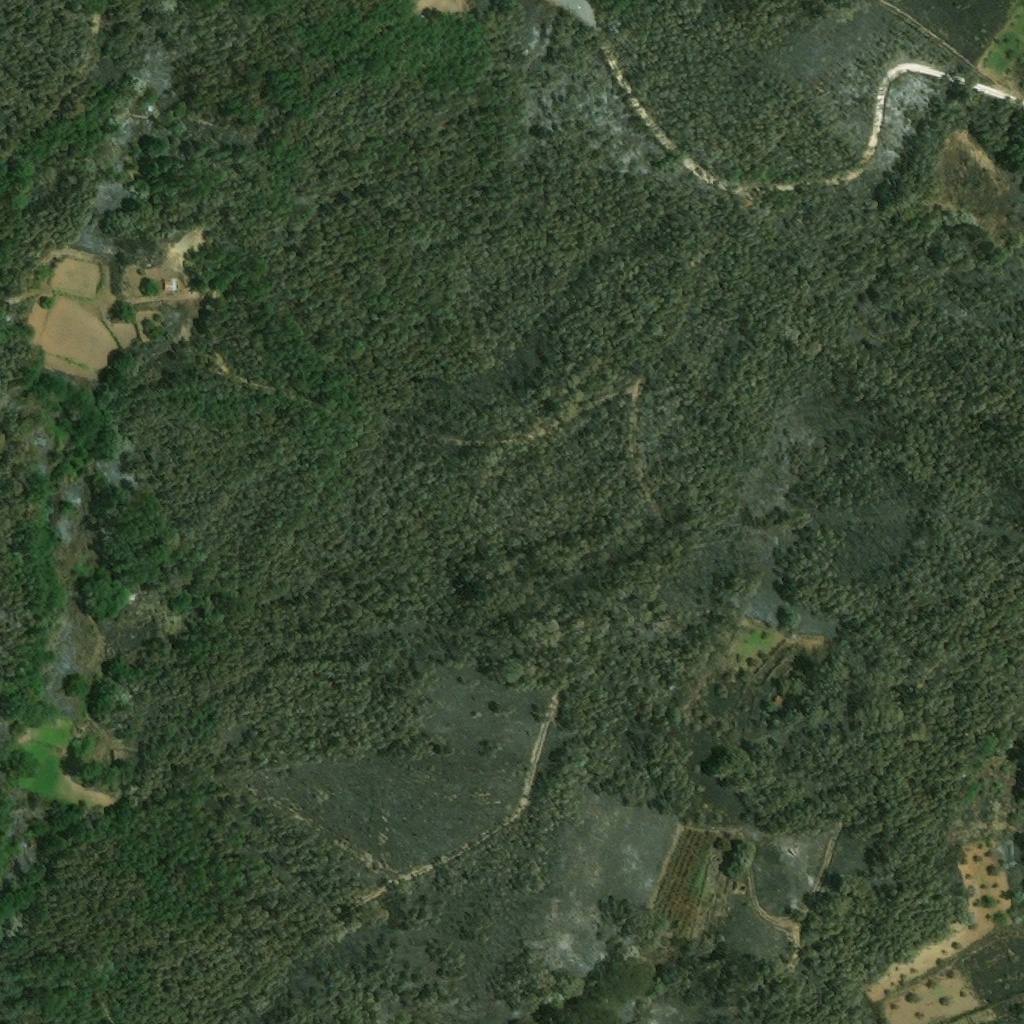0 no-damage: (163, 278, 179, 291)
